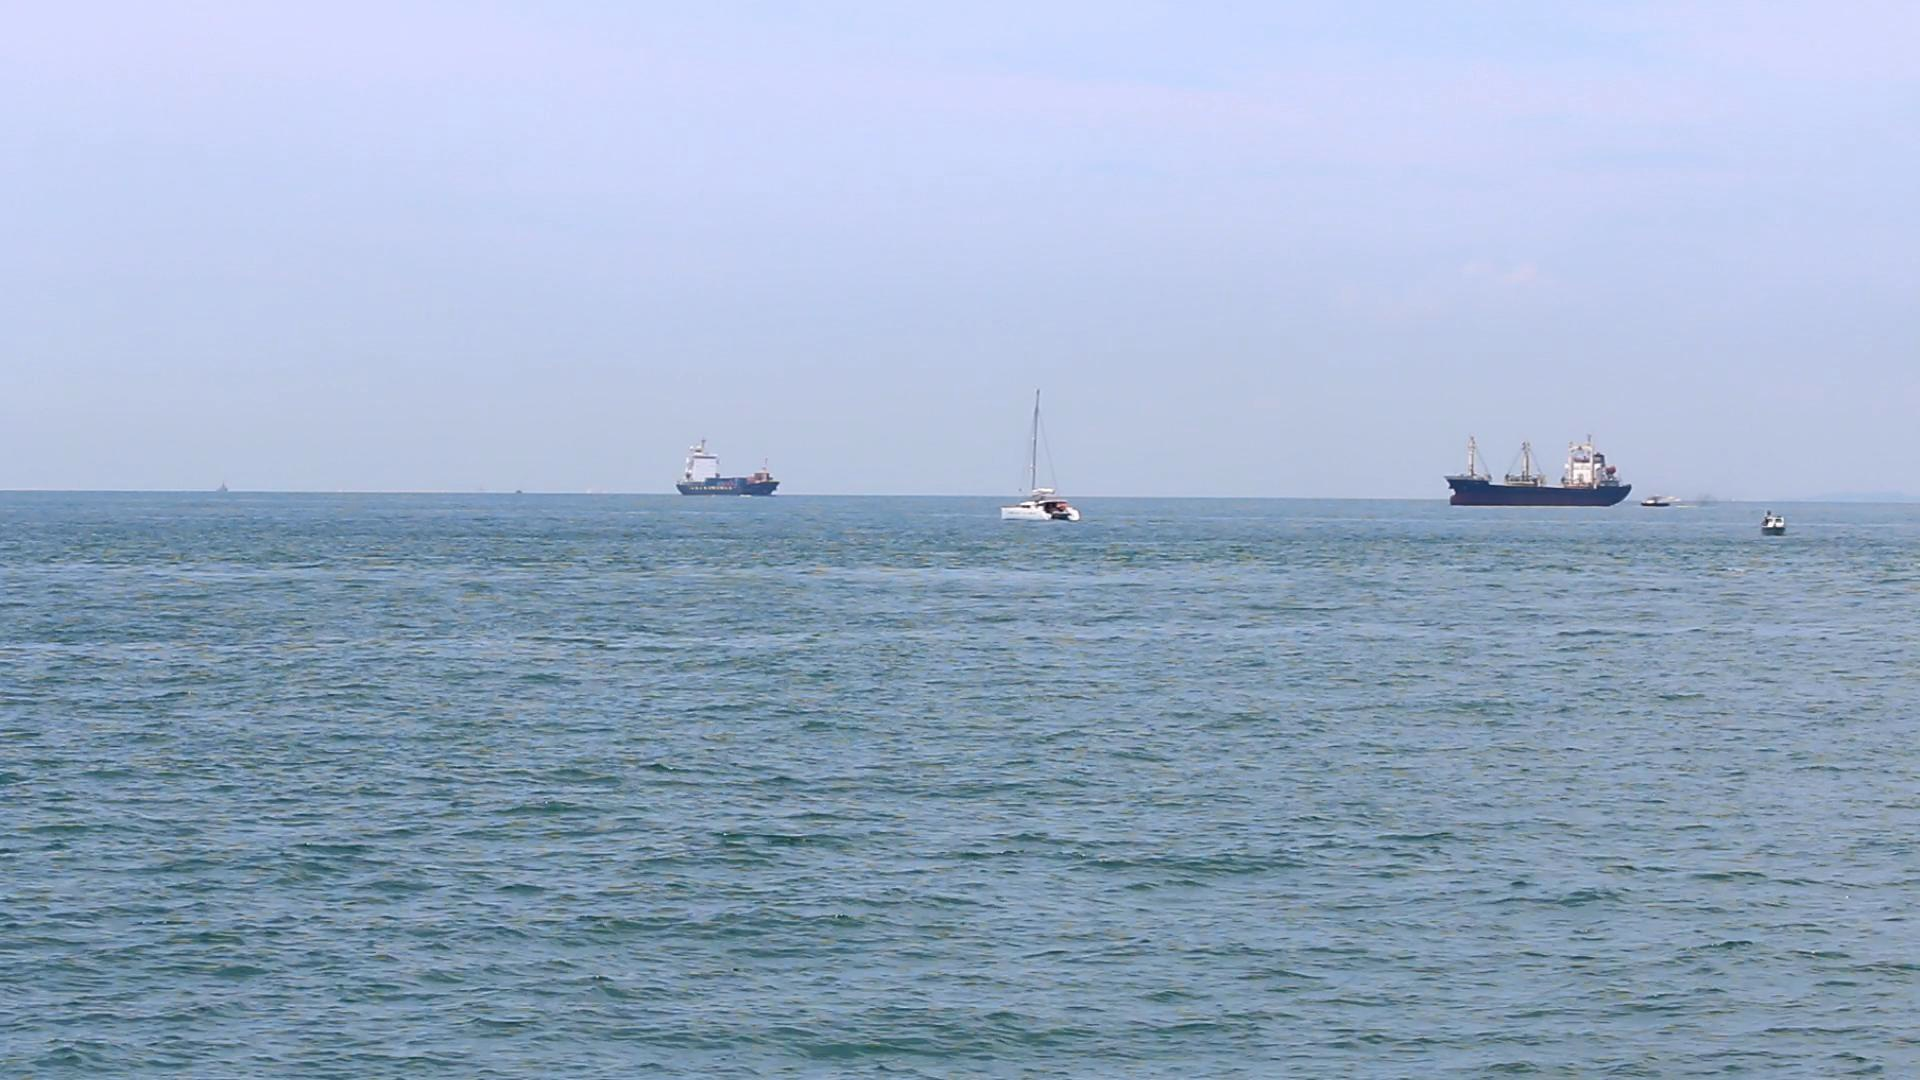Container Ship: (1444, 435, 1633, 509), (676, 435, 782, 497)
